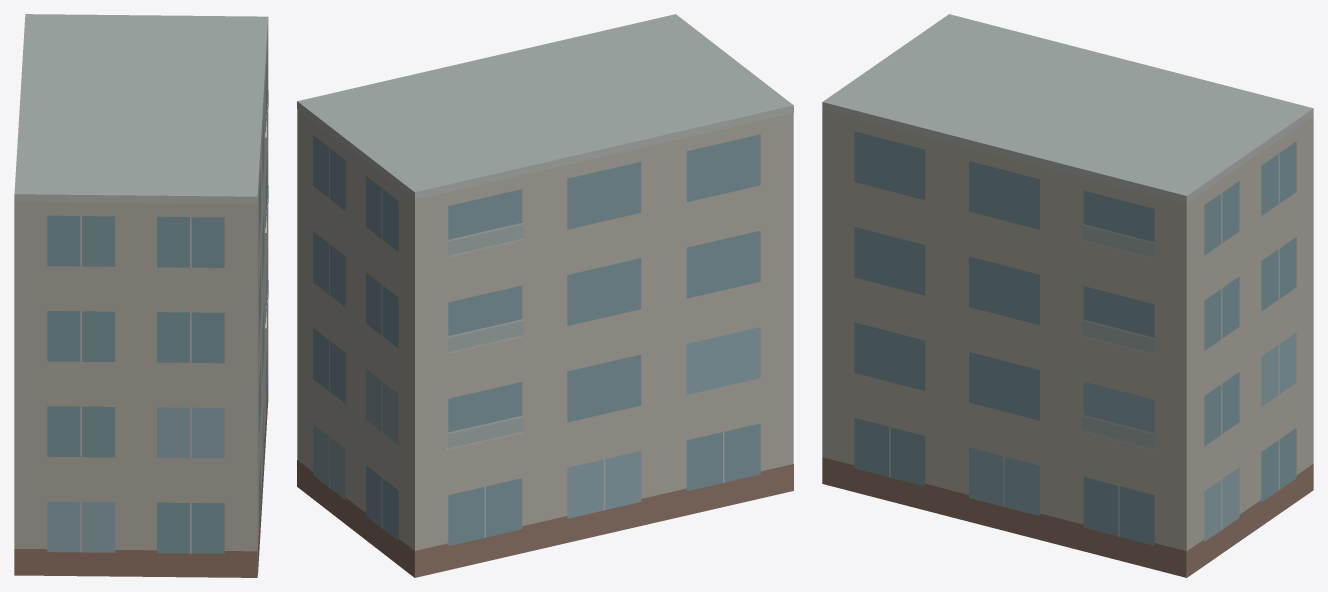
Rendered from residential-a74424d9-66a4-447d-af1e-0184be673de1.glb.
3 views of the same model, side by side, from view 1: azimuth 30°, elevation 25°; view 2: azimuth 150°, elevation 25°; view 3: azimuth 270°, elevation 25° (orthographic).
Visible parts, largest first — view 1: residential-a74424d9-66a4-447d-af1e-0184be673de1.tmp; view 2: residential-a74424d9-66a4-447d-af1e-0184be673de1.tmp; view 3: residential-a74424d9-66a4-447d-af1e-0184be673de1.tmp.
Boxes of the visible parts, x1,y1,x2,y2 form: residential-a74424d9-66a4-447d-af1e-0184be673de1.tmp: [14, 14, 268, 577]; residential-a74424d9-66a4-447d-af1e-0184be673de1.tmp: [297, 14, 793, 577]; residential-a74424d9-66a4-447d-af1e-0184be673de1.tmp: [822, 14, 1313, 577].
Size of the model in its own units: 12.48 by 12.2 by 14.24.
